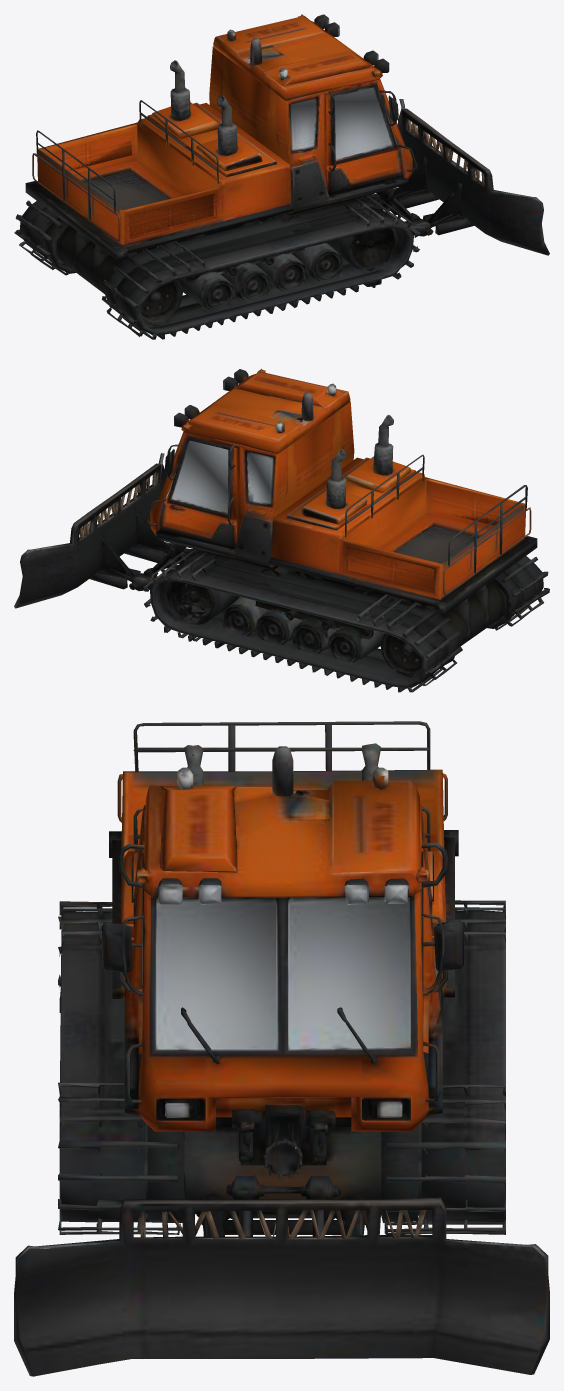
The model's file is snowcat.glb.
3 renders of one model, top to bottom at view 1: azimuth 30°, elevation 25°; view 2: azimuth 150°, elevation 25°; view 3: azimuth 270°, elevation 25°, orthographic. The views are drawn at different scales.
Visible parts, largest first — view 1: tripo_node_48774ae7-81c4-4188-b807-e938e4b816df; view 2: tripo_node_48774ae7-81c4-4188-b807-e938e4b816df; view 3: tripo_node_48774ae7-81c4-4188-b807-e938e4b816df.
Boxes of the visible parts, x1,y1,x2,y2 form: tripo_node_48774ae7-81c4-4188-b807-e938e4b816df: (14,14,549,339); tripo_node_48774ae7-81c4-4188-b807-e938e4b816df: (14,368,549,692); tripo_node_48774ae7-81c4-4188-b807-e938e4b816df: (14,721,549,1376).
Bounding box in the file's own units: 0.998 × 0.5176 × 0.5957.
1 material, 1 textured.
